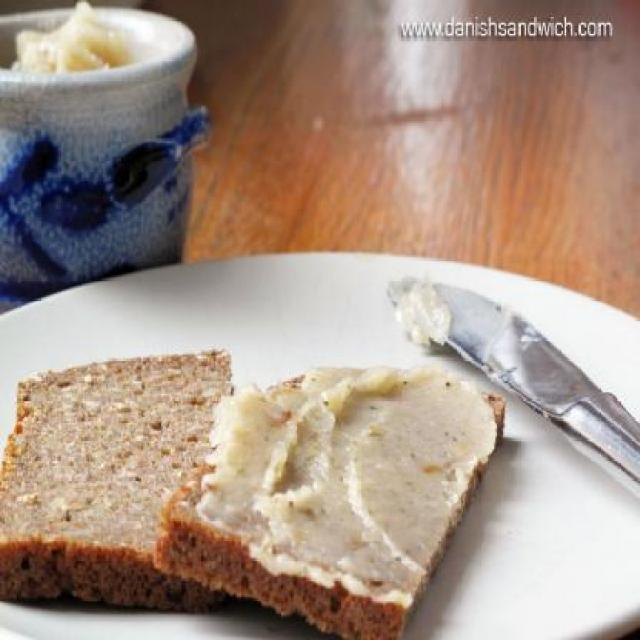Spread: (215, 371, 490, 607)
